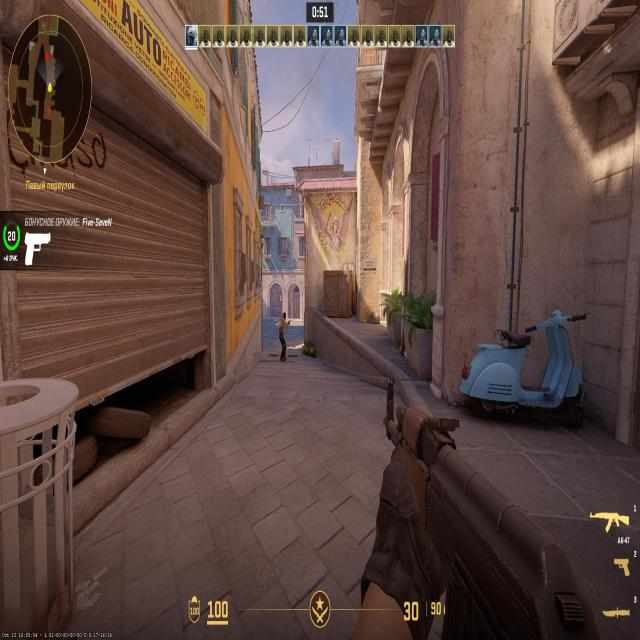T: (280, 310, 287, 360)
T_heat: (283, 314, 286, 321)
